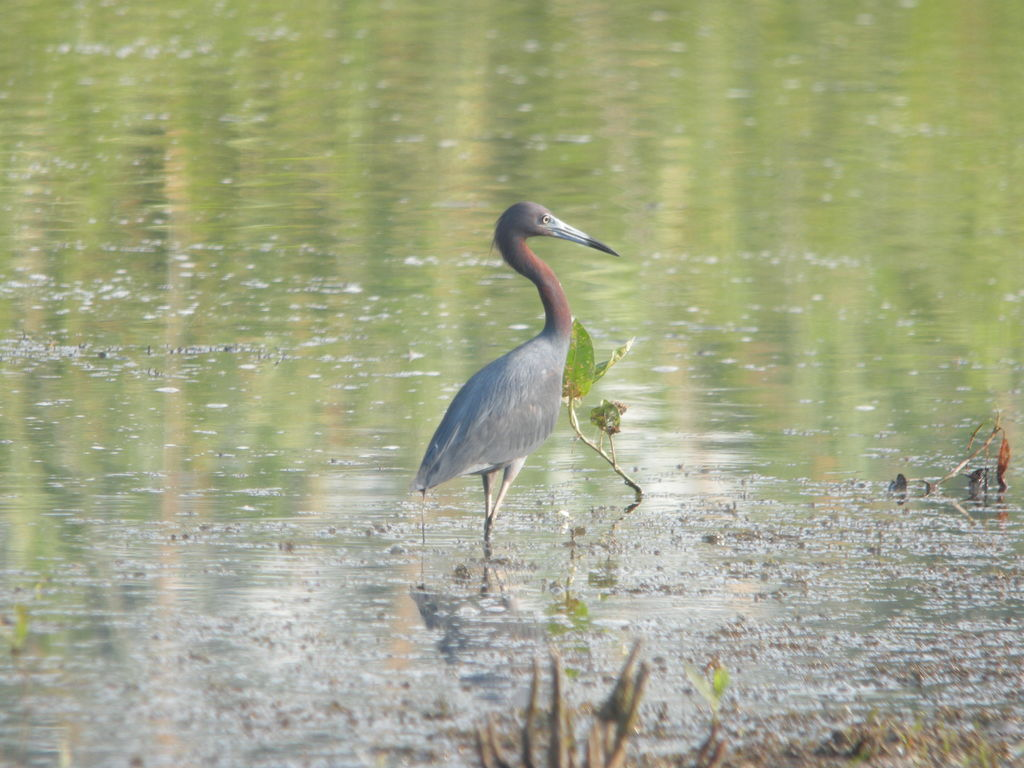Bird: (410, 202, 619, 541)
